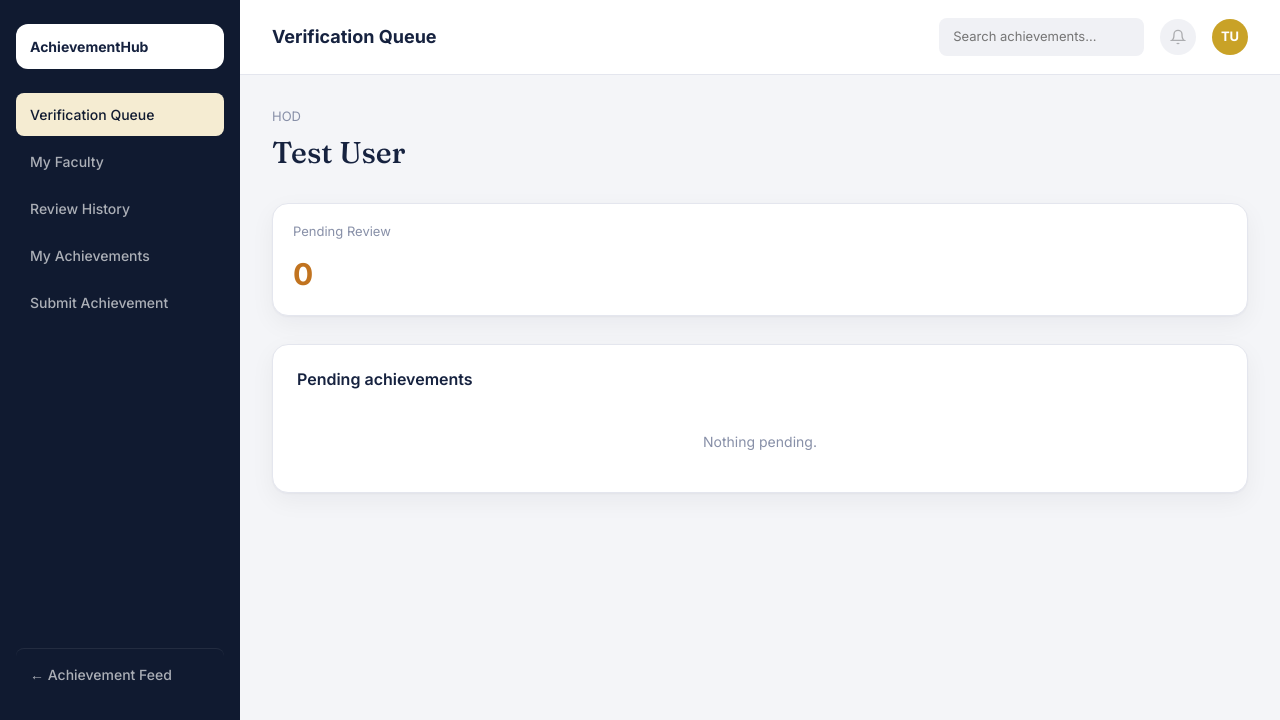
Roster availability › opens a working roster panel for hod
The width and height of the screenshot is (1280, 720).
Click the button "My Faculty". click: (120,162)
box: top-left (16, 140), bottom-right (224, 183)
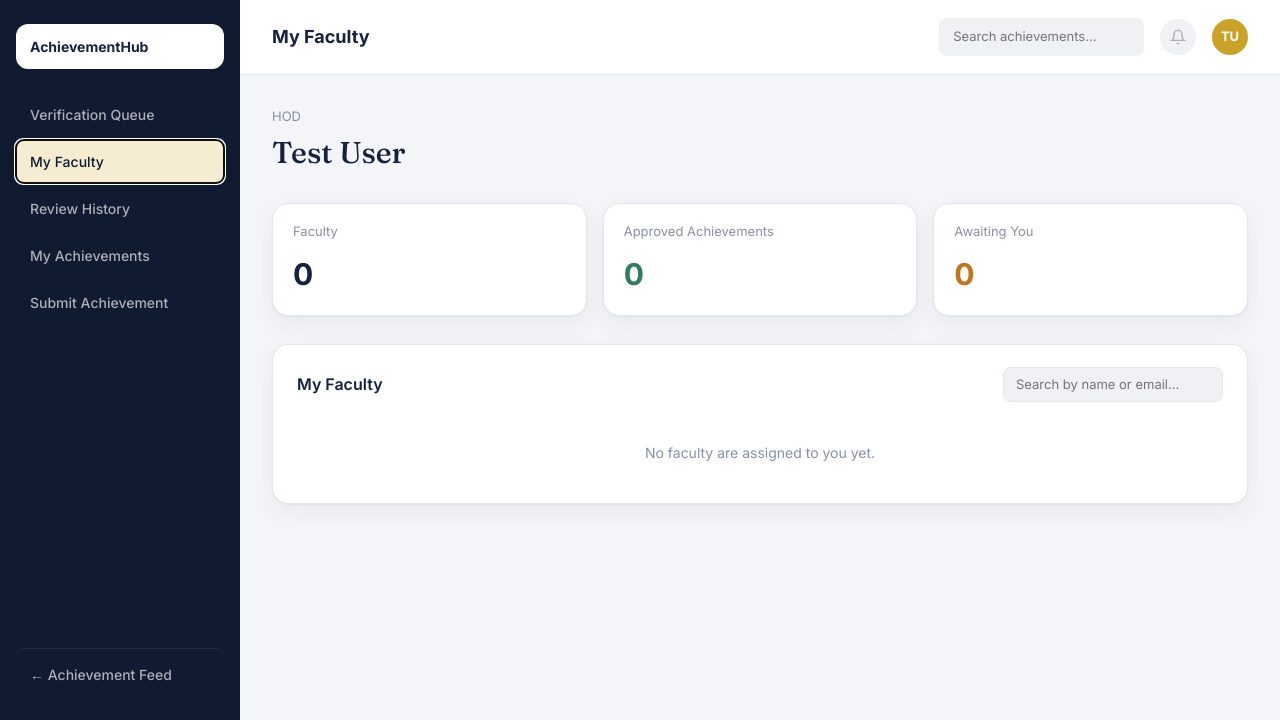
Expected: the heading "My Faculty" is shown, top-left (297, 372), bottom-right (383, 396)
